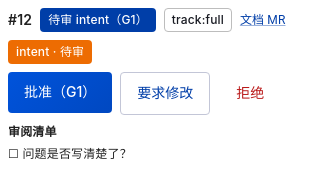
FlowGatePanel › in_review intent: 批准（G1） sends approve and applies the returned flow; checklist shown
The image size is (320, 177).
Expected: the text "☐ 问题是否写清楚了？" is shown, [8,146,132,160]
Click the button "批准（G1）" at (60,92), box [8,72,112,112]
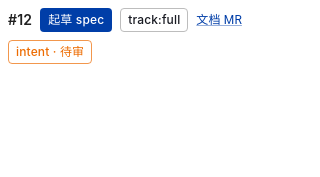
Expected: the element with test id "flow-state" reads "起草 spec", [48,12,104,27]
